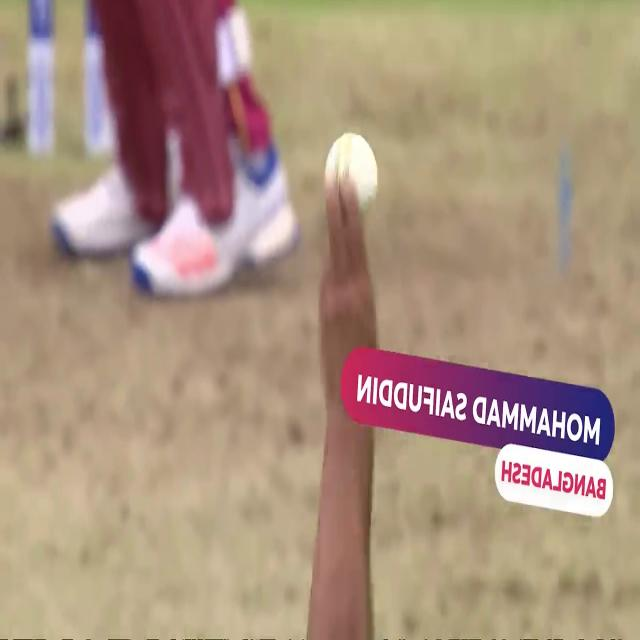ball: (324, 120, 382, 224)
